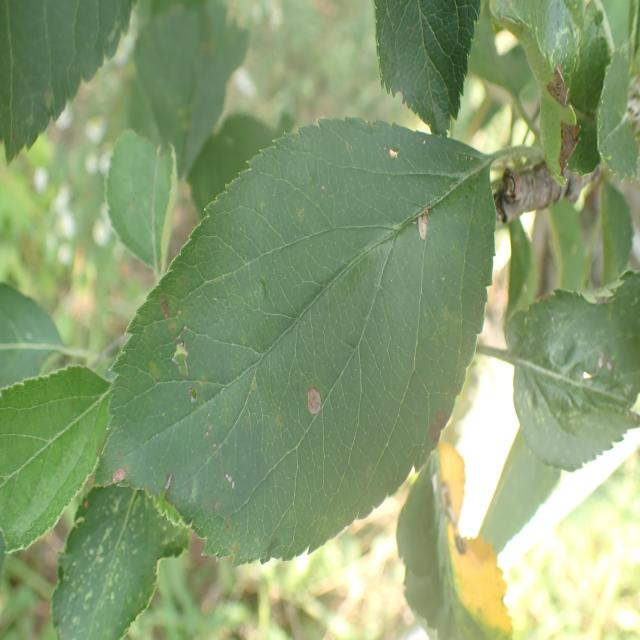frog-eye-leaf-spot: (92, 115, 497, 568)
